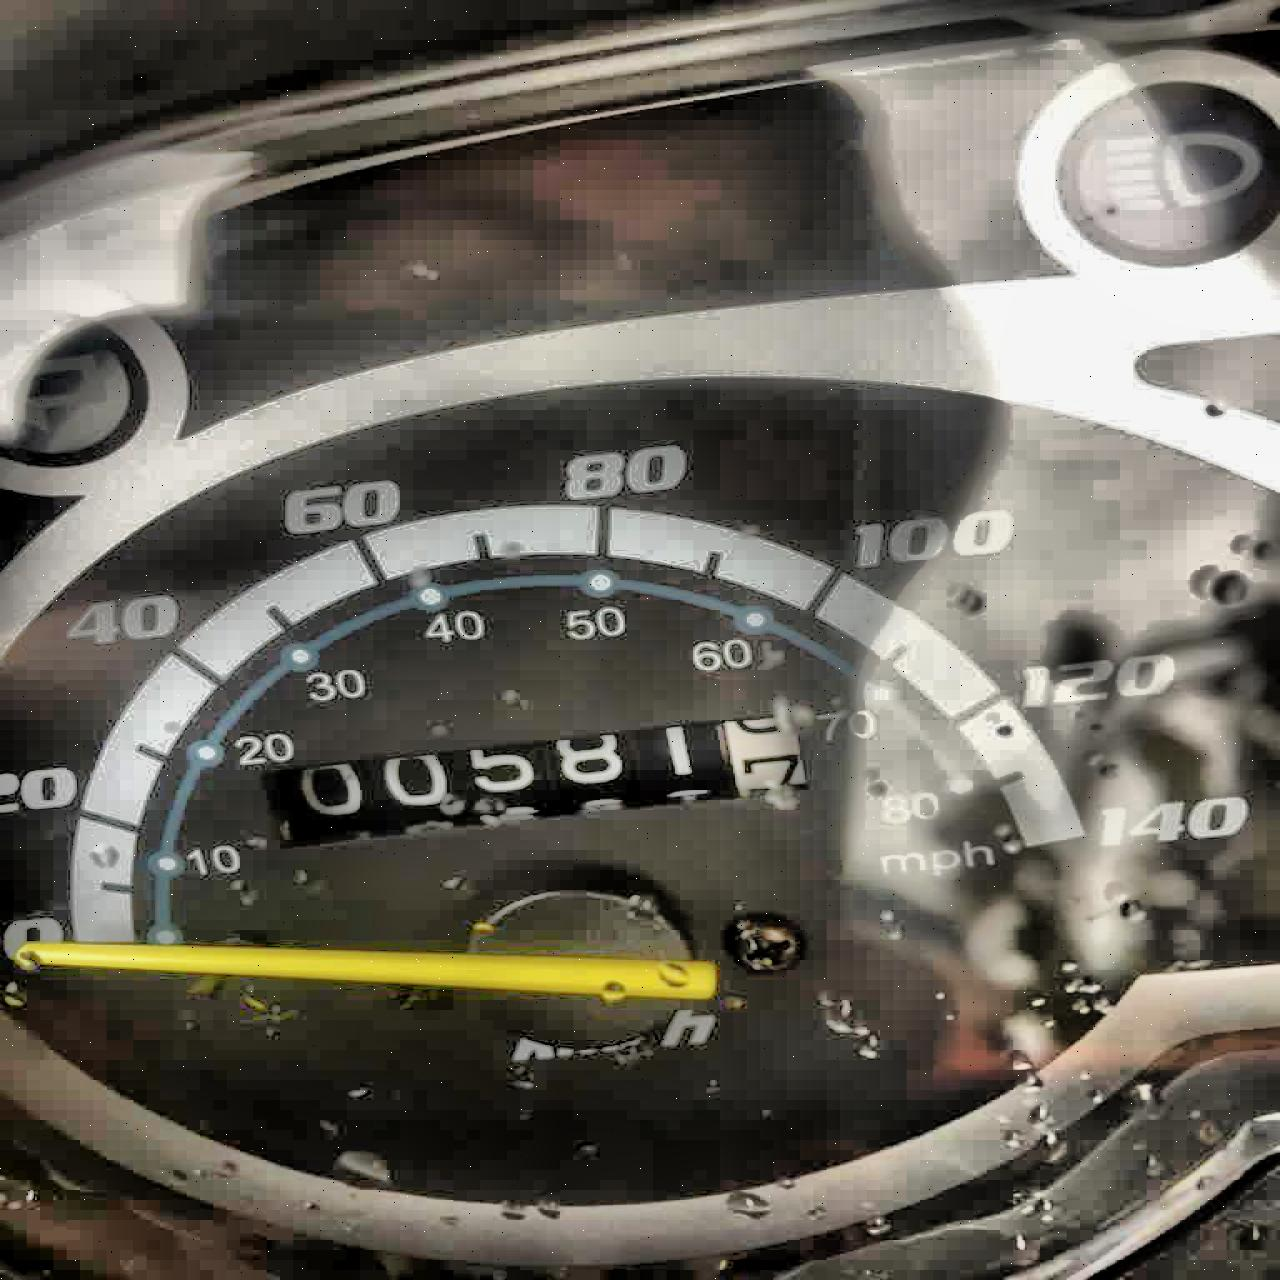0: (380, 748, 454, 811), (298, 756, 367, 817), (261, 730, 293, 762)
1: (653, 723, 704, 788)
5: (470, 734, 537, 797)
7: (731, 753, 809, 822)
8: (556, 726, 627, 790)
odometer: (257, 709, 816, 850)
